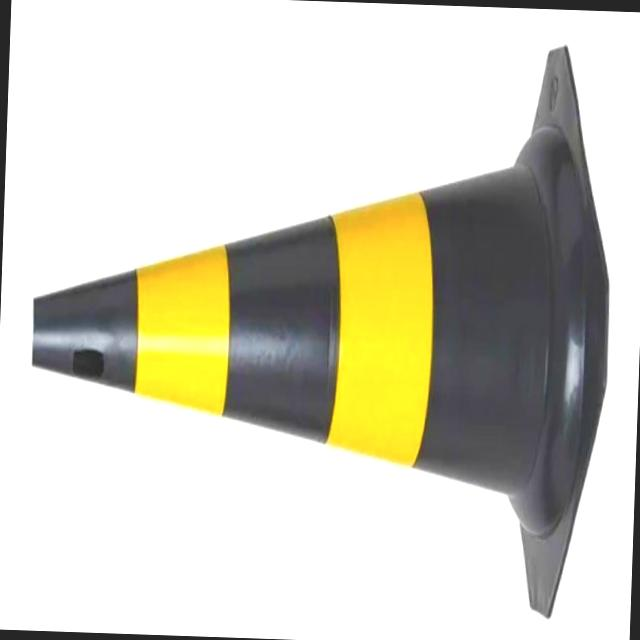cone: (13, 58, 628, 569)
